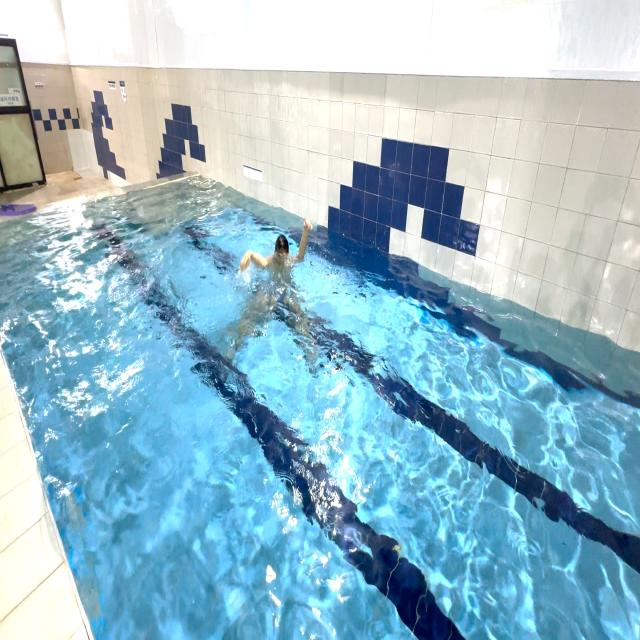Drowning: (229, 206, 325, 374)
